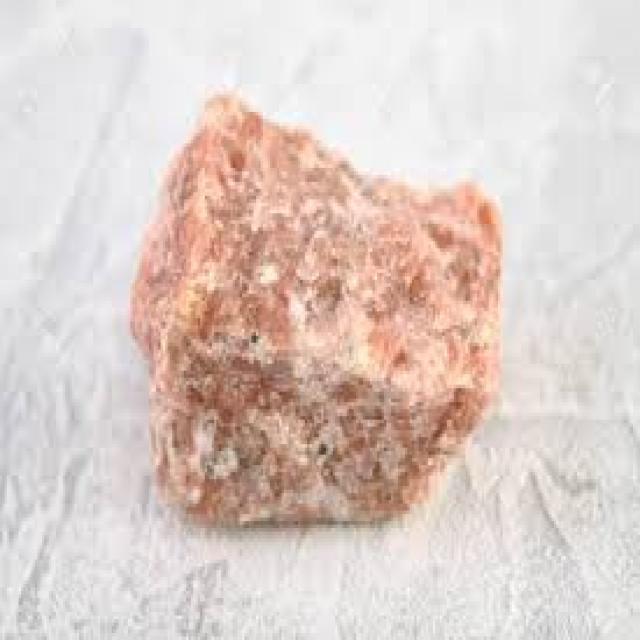Metamorphic: (130, 95, 500, 528)
